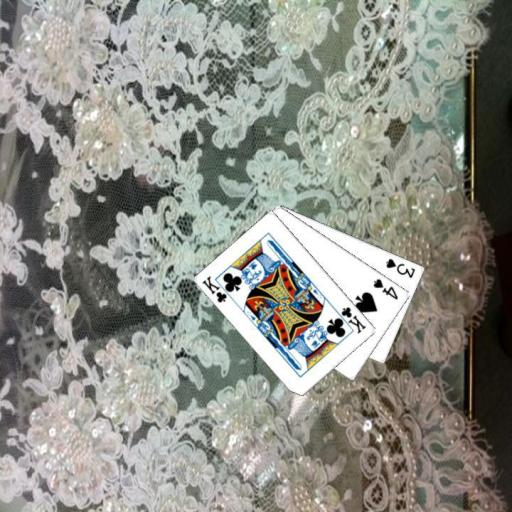3S: (383, 256, 417, 280)
4S: (371, 275, 400, 301)
KC: (332, 304, 368, 335), (199, 273, 235, 304)
